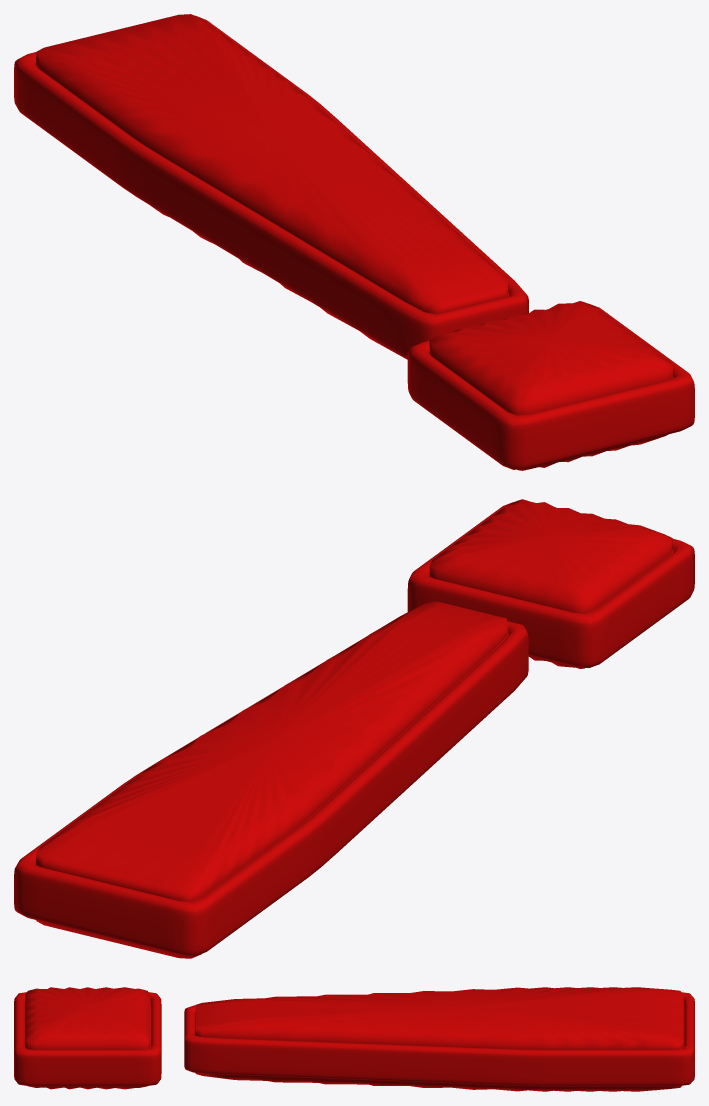
Rendered from issue.dae.
3 renders of one model, top to bottom at view 1: azimuth 30°, elevation 25°; view 2: azimuth 150°, elevation 25°; view 3: azimuth 270°, elevation 25°, orthographic. The views are drawn at different scales.
Visible parts, largest first — view 1: polySurface1; view 2: polySurface1; view 3: polySurface1.
Part boxes in pixels (bbox=[...]): polySurface1: bbox=[14, 14, 694, 470]; polySurface1: bbox=[14, 499, 694, 958]; polySurface1: bbox=[14, 987, 694, 1091].
Bounding box in the file's own units: 0.7657 × 0.3749 × 3.5.
